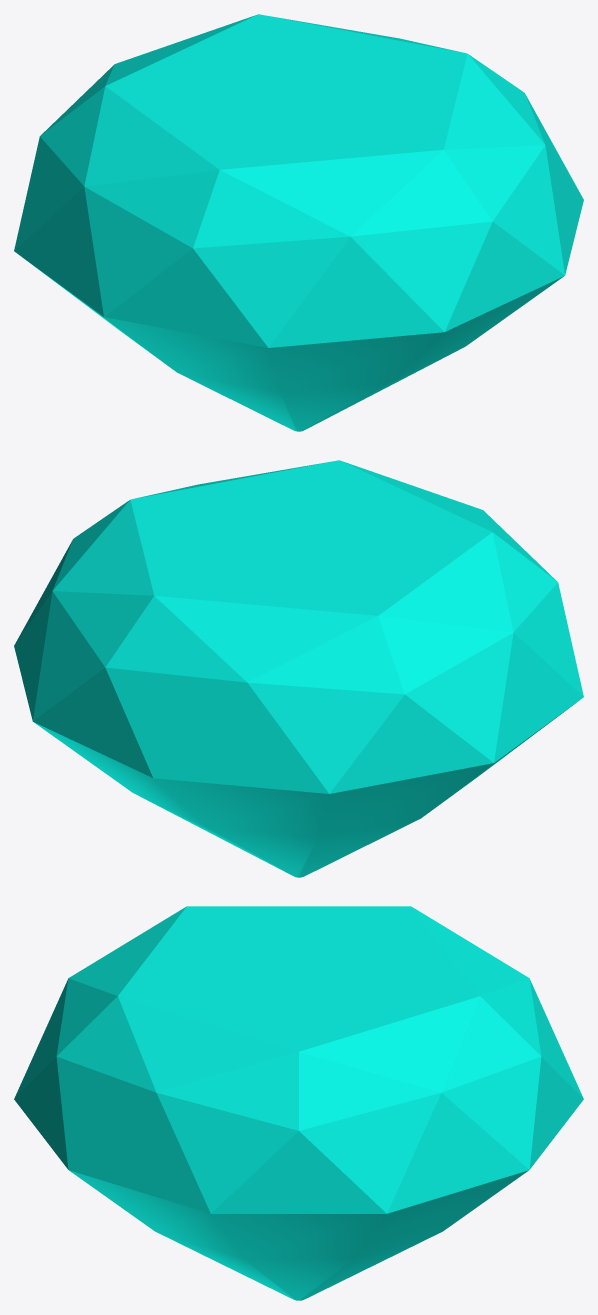
File: treasure_jem.fbx
3 renders of one model, top to bottom at view 1: azimuth 30°, elevation 25°; view 2: azimuth 150°, elevation 25°; view 3: azimuth 270°, elevation 25°, orthographic. The views are drawn at different scales.
Visible parts, largest first — view 1: Mesh; view 2: Mesh; view 3: Mesh.
Part boxes in pixels (box(x1,y1,x2,y2)): Mesh: box(14, 14, 583, 431); Mesh: box(14, 460, 583, 877); Mesh: box(14, 906, 583, 1300).
Bounding box in the file's own units: 0.5508 × 0.3694 × 0.5792.
